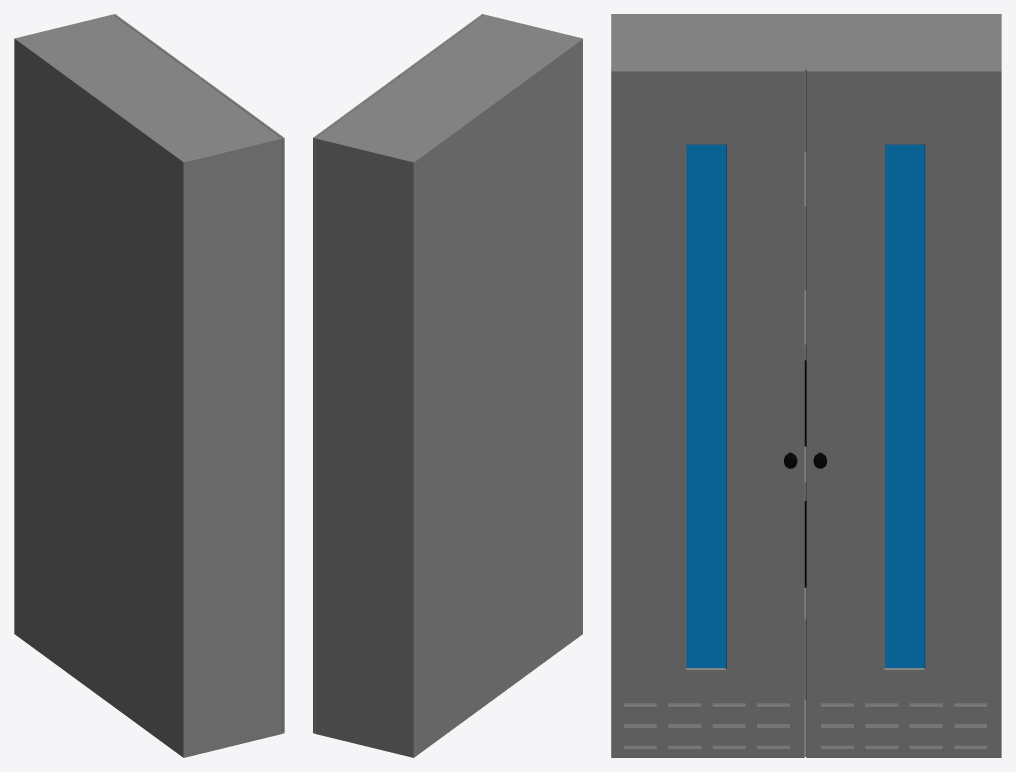
Rendered from lockers.fbx.
3 views of the same model, side by side, from view 1: azimuth 30°, elevation 25°; view 2: azimuth 150°, elevation 25°; view 3: azimuth 270°, elevation 25° (orthographic). The views are drawn at different scales.
Visible parts, largest first — view 1: Locker; view 2: Locker; view 3: Locker.
Part boxes in pixels (left/top/right/bottom): Locker: left=14, top=14, right=284, bottom=757; Locker: left=313, top=14, right=582, bottom=757; Locker: left=611, top=14, right=1001, bottom=757.
Size of the model in its own units: 119 by 231 by 46.66.
